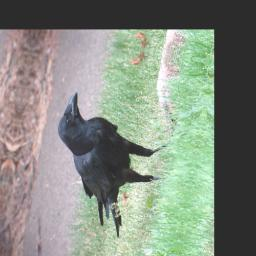Crow: (38, 87, 177, 244)
